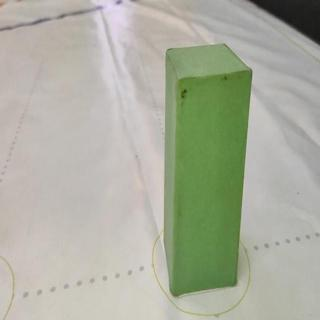greenbox: (165, 43, 253, 297)
